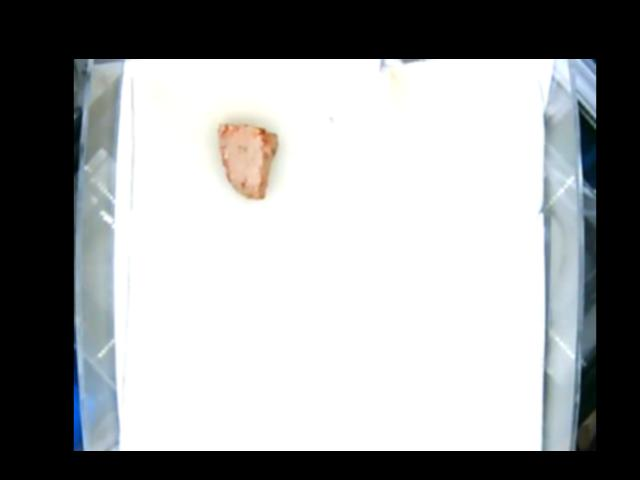Brisk: (217, 119, 279, 200)
